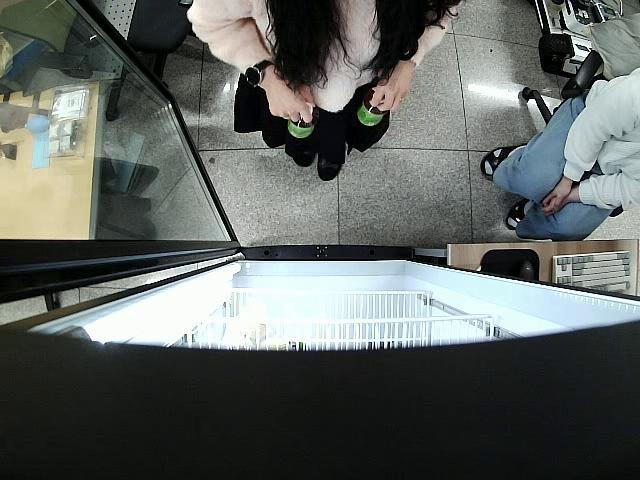19_17cha: (357, 98, 386, 129), (288, 108, 314, 142)
